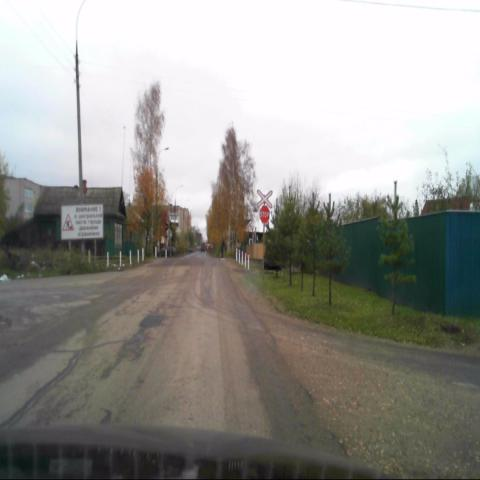1_25: (61, 214, 74, 233)
